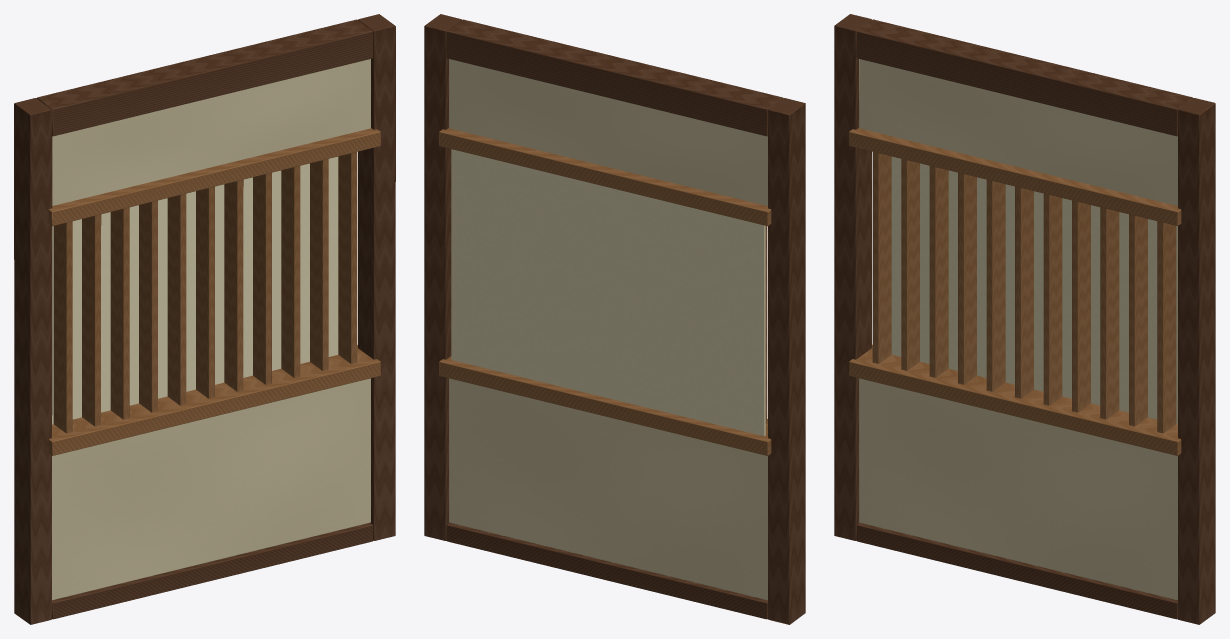
File: lattice_window.gltf
The picture shows the model from 3 angles, left to right: view 1: azimuth 30°, elevation 25°; view 2: azimuth 150°, elevation 25°; view 3: azimuth 330°, elevation 25°; orthographic projection.
Bounding box in the file's own units: 1.8 × 2.4 × 0.2.
Materials: 4 (4 with a texture image).
